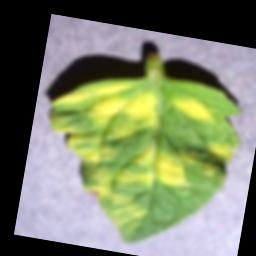Leaf_Mold: (29, 58, 246, 256)
